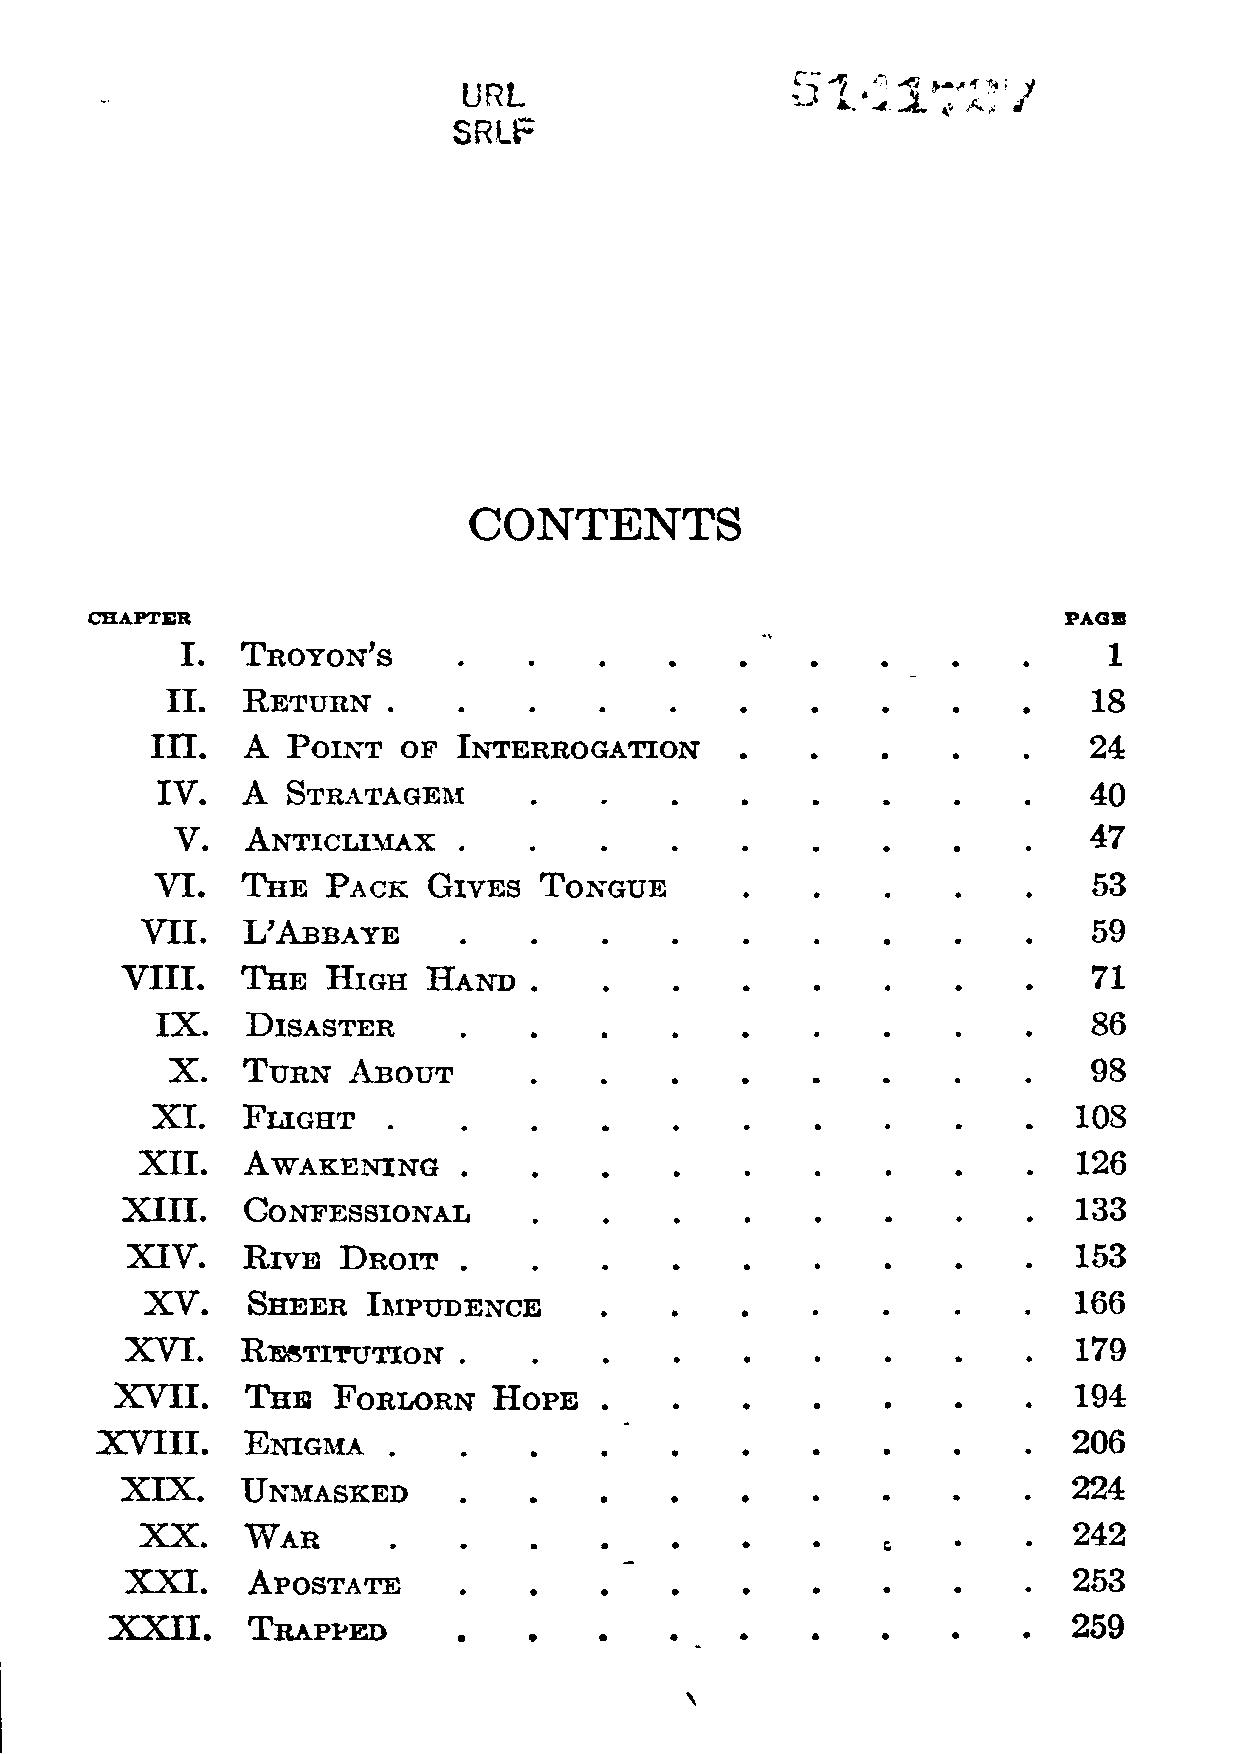TOC_chapter: (144, 727, 701, 762), (110, 1380, 581, 1414), (149, 870, 666, 900), (141, 1286, 545, 1321), (117, 961, 517, 993), (115, 1193, 475, 1228), (123, 1331, 444, 1366), (117, 1469, 411, 1507), (105, 1612, 392, 1649), (118, 1240, 436, 1274), (121, 1563, 407, 1598), (154, 777, 464, 808), (136, 1147, 439, 1178), (166, 1053, 454, 1084), (140, 914, 403, 947), (93, 1427, 365, 1457), (170, 823, 442, 854), (153, 1008, 399, 1040), (173, 639, 395, 671), (162, 682, 373, 714), (152, 1100, 358, 1133), (136, 1519, 325, 1553)
TOC_pagenumber: (1070, 1516, 1130, 1550), (1070, 1424, 1129, 1457), (1070, 1333, 1130, 1365), (1070, 1606, 1125, 1641), (1074, 1377, 1129, 1410), (1074, 1562, 1127, 1594), (1071, 1286, 1126, 1317), (1071, 1471, 1126, 1502), (1074, 1194, 1131, 1223), (1082, 731, 1130, 765), (1074, 1100, 1130, 1129), (1074, 1147, 1129, 1176), (1074, 1240, 1125, 1270), (1084, 684, 1127, 715), (1088, 867, 1127, 898), (1087, 777, 1125, 808), (1090, 1007, 1127, 1037), (1088, 1055, 1127, 1084), (1087, 821, 1127, 849), (1087, 962, 1125, 992), (1087, 917, 1125, 943), (1102, 636, 1127, 670)
chapter: (463, 499, 743, 544)
